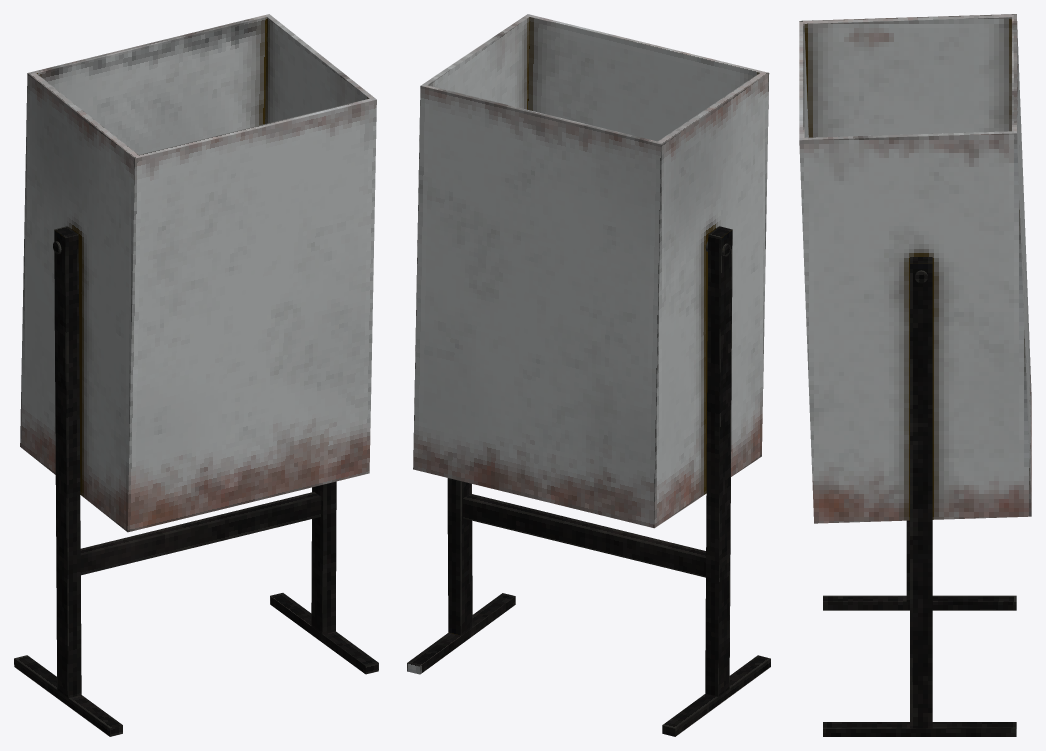
File: trash_can.glb
3 views of the same model, side by side, from view 1: azimuth 30°, elevation 25°; view 2: azimuth 150°, elevation 25°; view 3: azimuth 270°, elevation 25° (orthographic).
Parts seen in each view (by area): view 1: pCube9_lambert1_0; view 2: pCube9_lambert1_0; view 3: pCube9_lambert1_0.
Part boxes in pixels (x1=…): pCube9_lambert1_0: x1=14, y1=14, x2=378, y2=736; pCube9_lambert1_0: x1=407, y1=14, x2=770, y2=736; pCube9_lambert1_0: x1=799, y1=14, x2=1031, y2=736.
Size of the model in its own units: 0.3001 by 0.6069 by 0.2141.
Materials: 1 (1 with a texture image).
